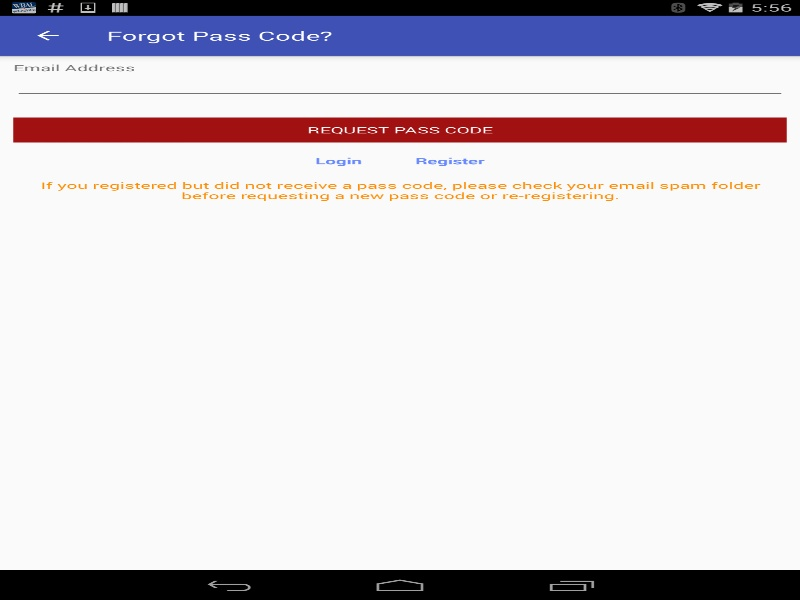Button: (13, 117, 786, 142), (10, 15, 85, 55)
Input: (13, 73, 786, 98)
